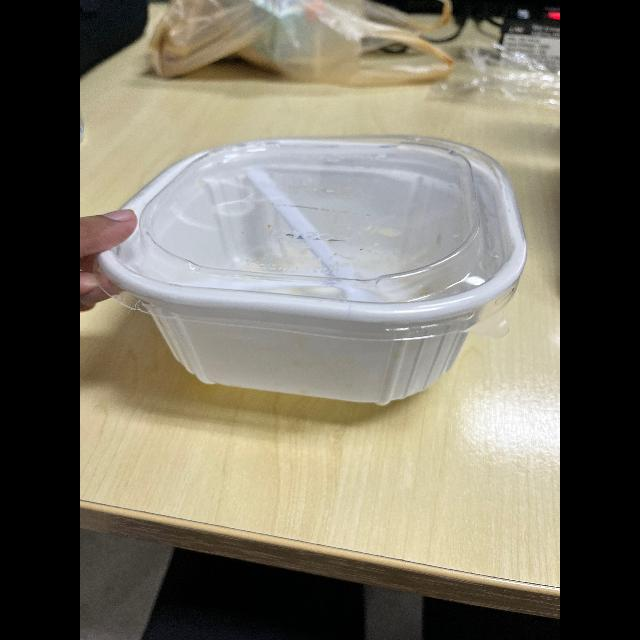plastic_box: (95, 128, 518, 408)
